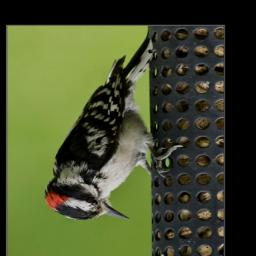Woodpecker: (45, 36, 179, 224)
